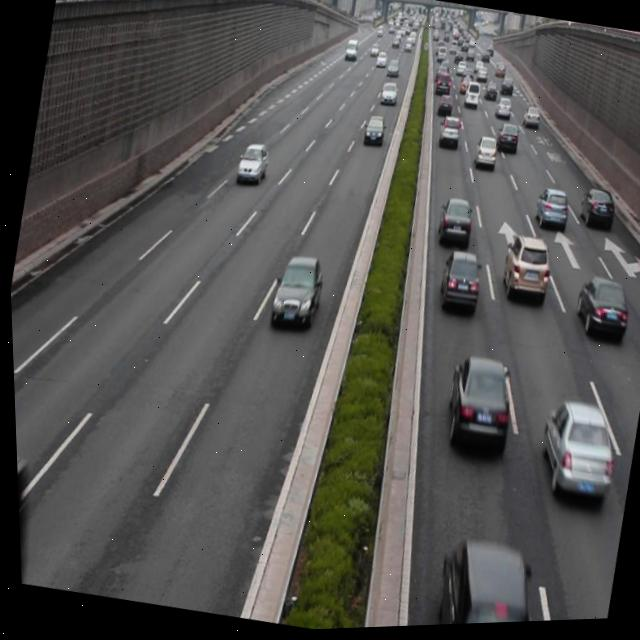car: (421, 536, 541, 628), (527, 397, 620, 510), (434, 353, 517, 464), (264, 256, 324, 334), (493, 233, 553, 310), (567, 279, 629, 347), (431, 251, 483, 318), (432, 197, 474, 254), (573, 188, 614, 238), (528, 190, 570, 237), (233, 142, 268, 187), (434, 117, 461, 153), (491, 125, 519, 158), (360, 114, 386, 148), (471, 139, 498, 171)
